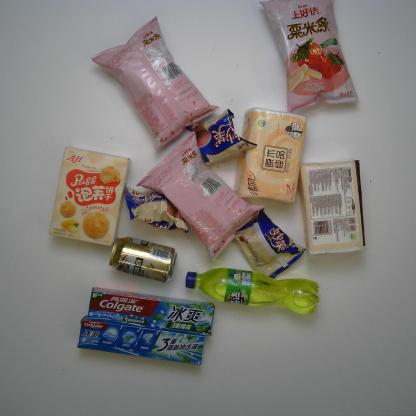Alcohol: (107, 235, 179, 284)
Dessert: (47, 144, 133, 248), (232, 205, 307, 283), (184, 108, 259, 166), (123, 181, 190, 235)
Drink: (184, 266, 322, 316)
Personal Hygiene: (85, 285, 216, 338), (76, 314, 206, 366)
Puffed Food: (90, 15, 221, 153), (135, 130, 267, 265), (257, 0, 362, 117)
Tissue: (232, 104, 308, 206), (297, 158, 367, 257)
